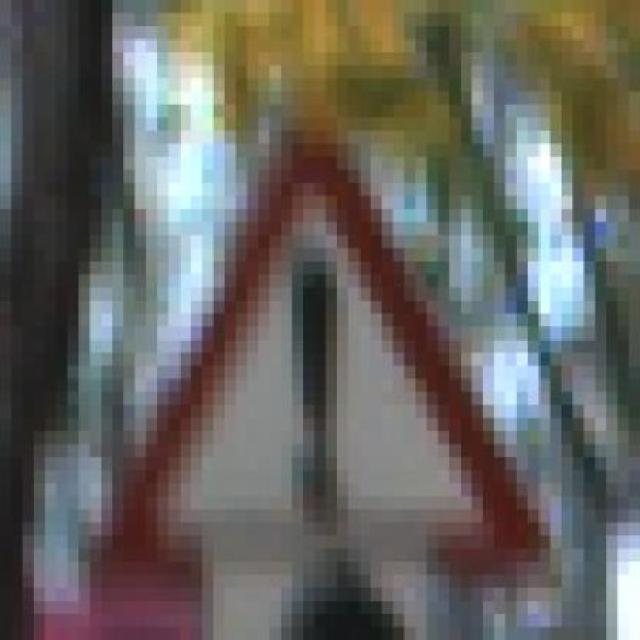Attention Please-: (78, 118, 572, 600)
